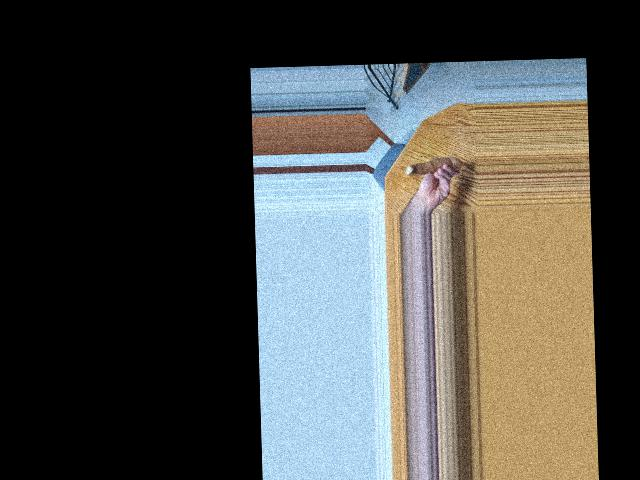sweet_potato: (406, 154, 462, 181)
